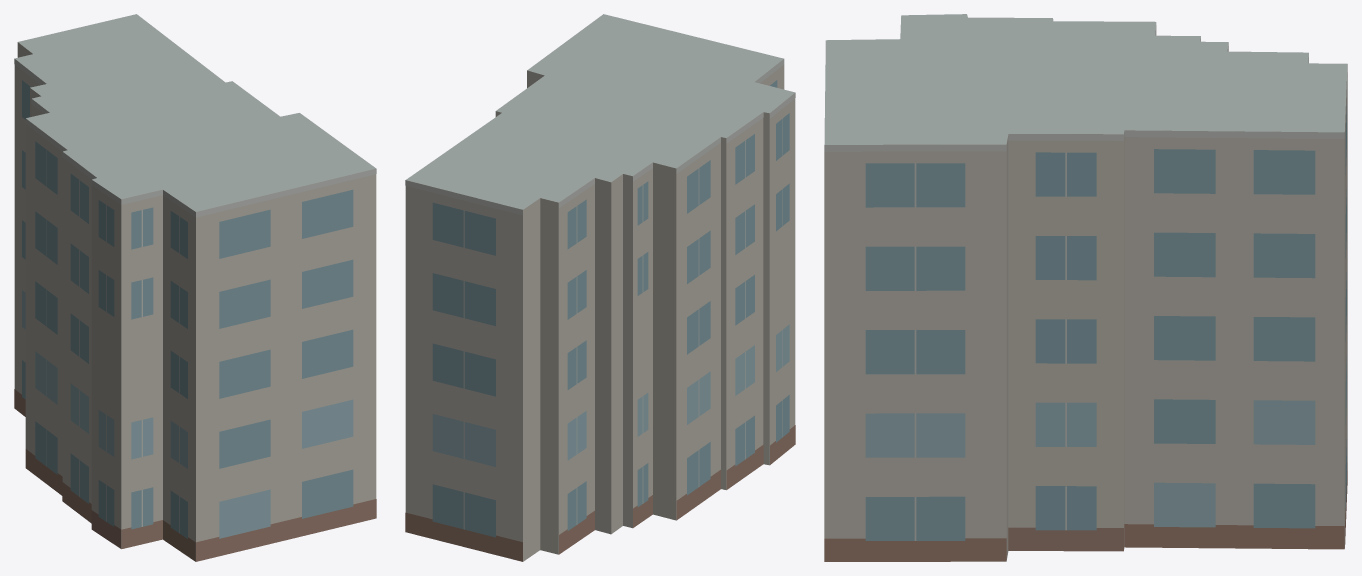
File: survey-upis-32506233.glb
The picture shows the model from 3 angles, left to right: view 1: azimuth 30°, elevation 25°; view 2: azimuth 150°, elevation 25°; view 3: azimuth 270°, elevation 25°; orthographic projection. The views are drawn at different scales.
Parts seen in each view (by area): view 1: survey-upis-32506233.tmp; view 2: survey-upis-32506233.tmp; view 3: survey-upis-32506233.tmp.
Boxes of the visible parts, x1,y1,x2,y2 form: survey-upis-32506233.tmp: (14,14,376,561); survey-upis-32506233.tmp: (405,14,795,561); survey-upis-32506233.tmp: (824,14,1347,561).
Bounding box in the file's own units: 10.27 × 15.25 × 17.35.
